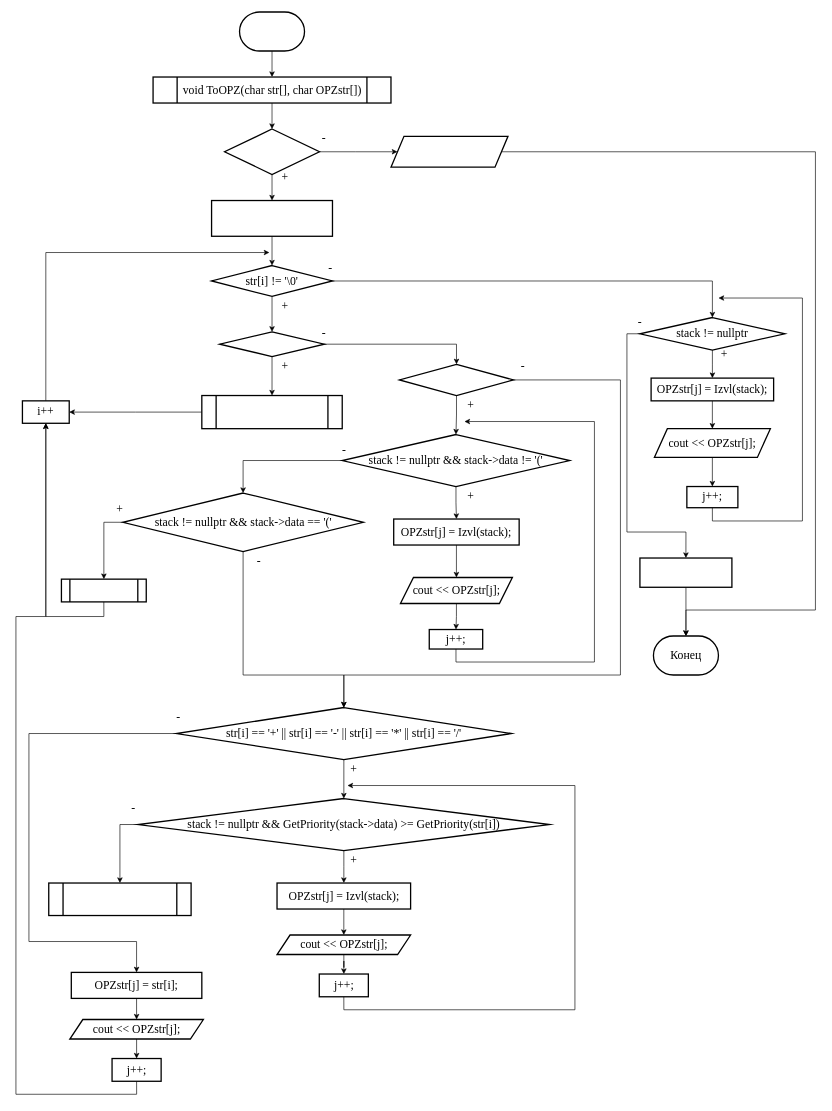
This 832x1111 diagram has some shape labels left out. The shapes that lost their labels are listed below. From the top down, each one's box as (x1, y1, x2, y2) in pixels, then its label:
(239, 11, 305, 51): Начало
(224, 128, 320, 175): Check(str)
(390, 135, 508, 168): cout << "ERROR";
(211, 200, 333, 237): int i = 0, j = 0; Node* stack = NULL;
(219, 331, 325, 357): str[i] == '(')
(398, 363, 514, 396): str[i] == ')'
(201, 395, 343, 429): AddElem(stack, str[i])
(60, 578, 147, 602): Izvl(stack);
(639, 557, 732, 588): OPZstr[j] = '\0';
(48, 882, 191, 916): AddElem(stack, str[i]);
